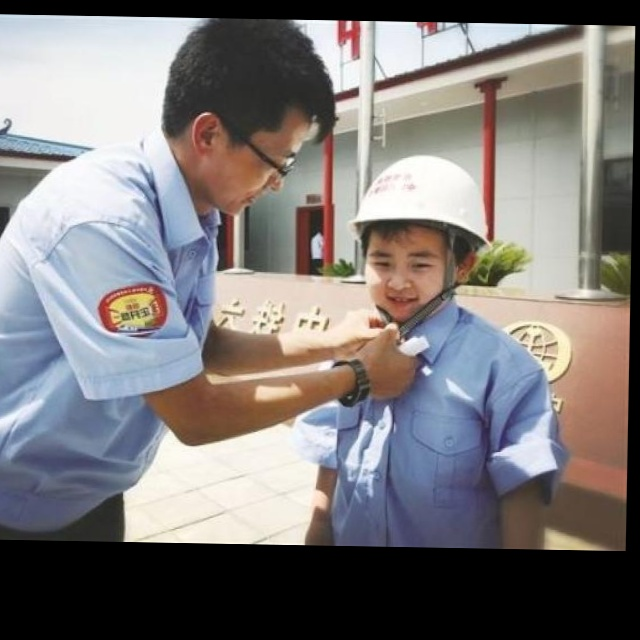Con_Casco: (350, 153, 485, 317)
Sin_Casco_Mascarrilla: (160, 17, 339, 200)
